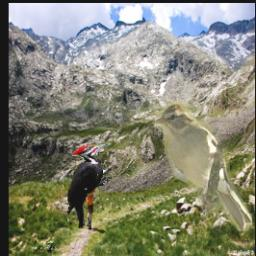Sparrow: (154, 101, 251, 231)
Woodpecker: (67, 143, 112, 229)
